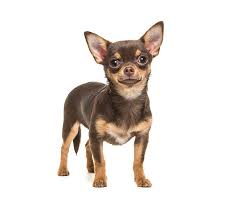chihuahua: (58, 20, 164, 188)
